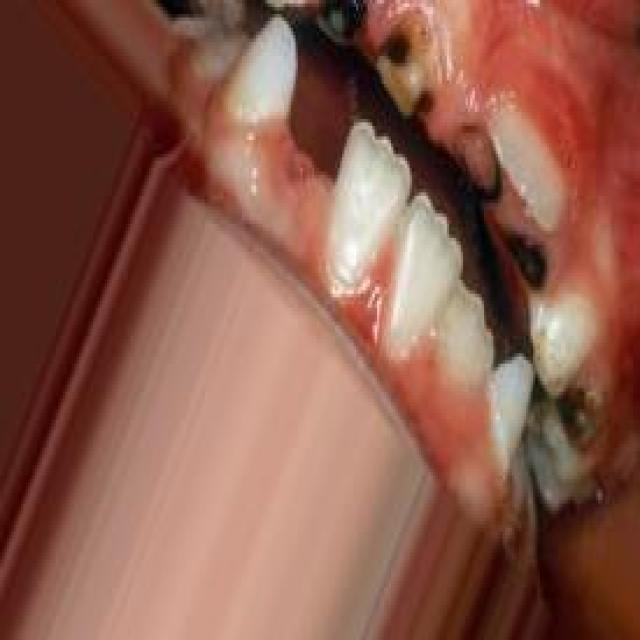caries: (371, 4, 423, 118), (552, 361, 602, 460), (490, 210, 547, 291), (148, 0, 274, 34), (457, 109, 496, 205), (308, 0, 366, 45)
